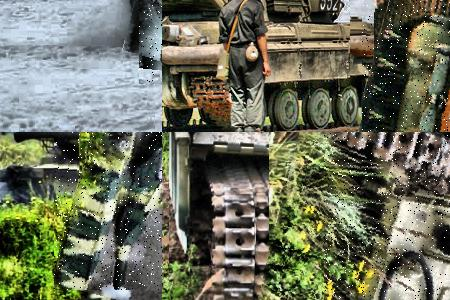tanks: (337, 133, 450, 300), (256, 1, 387, 132), (55, 133, 163, 291), (364, 1, 450, 133), (163, 1, 234, 130)
